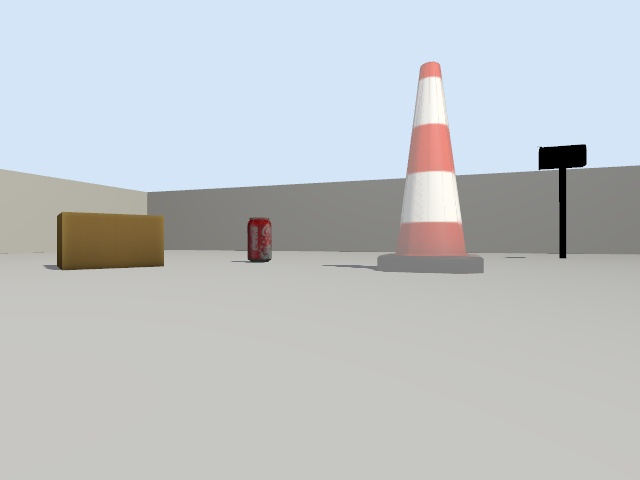boite_lettres: (538, 144, 586, 258)
canette: (247, 217, 271, 262)
carton: (57, 212, 163, 269)
cone_chantier: (378, 62, 483, 273)
